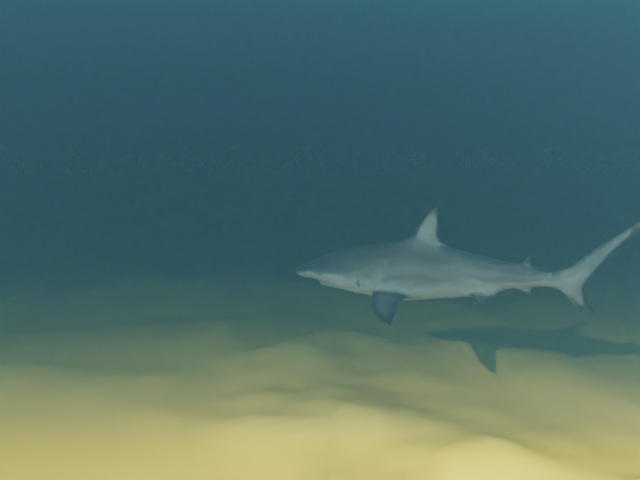Carribean Shark.001: (295, 207, 640, 325)
